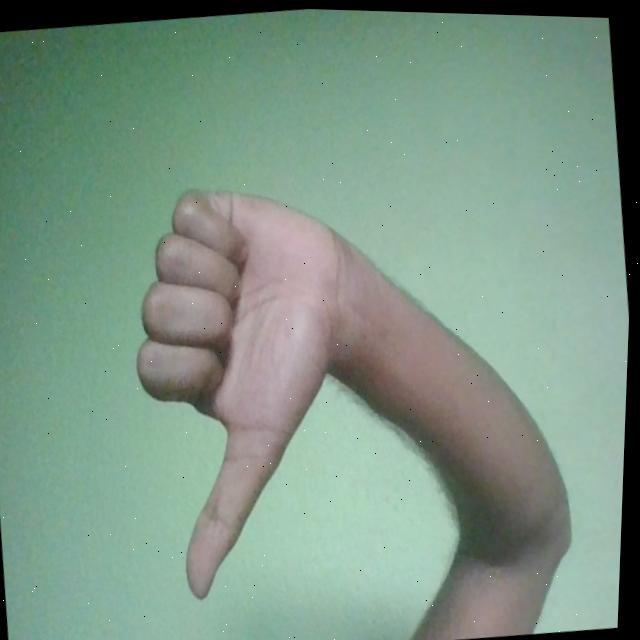Dislike: (115, 169, 383, 607)
